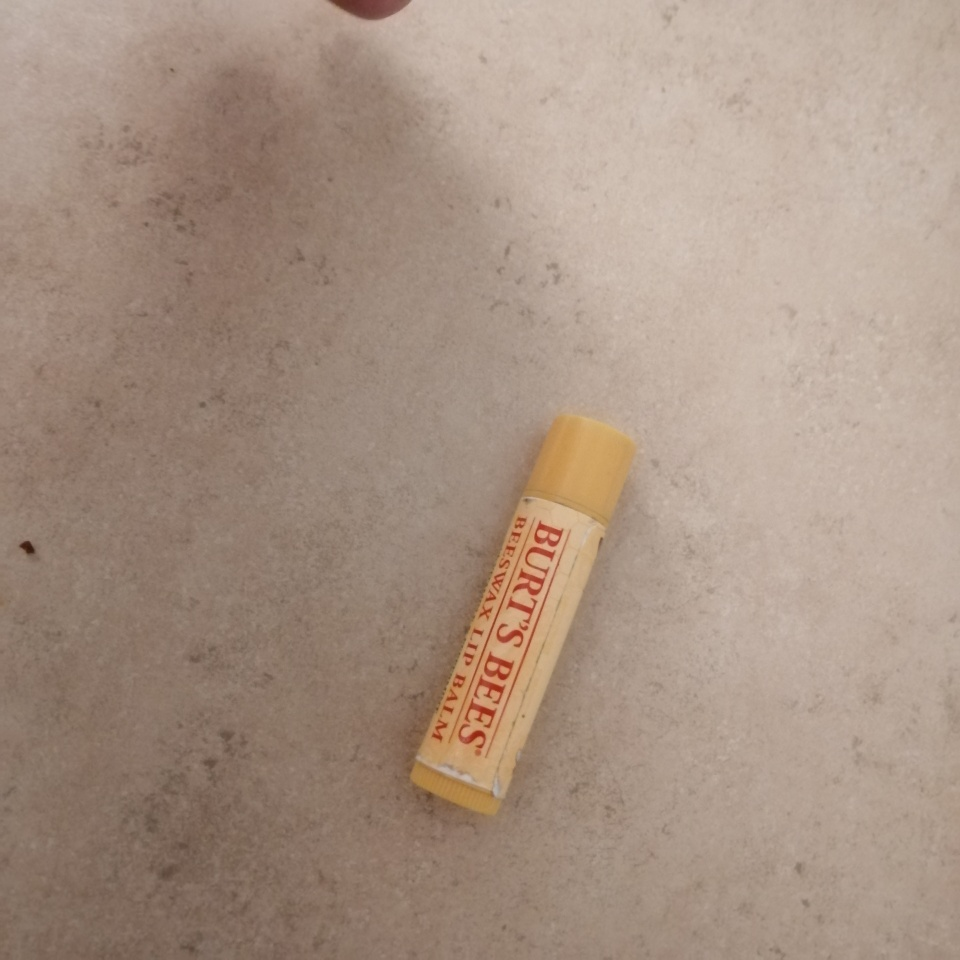chapstick: (407, 414, 638, 818)
